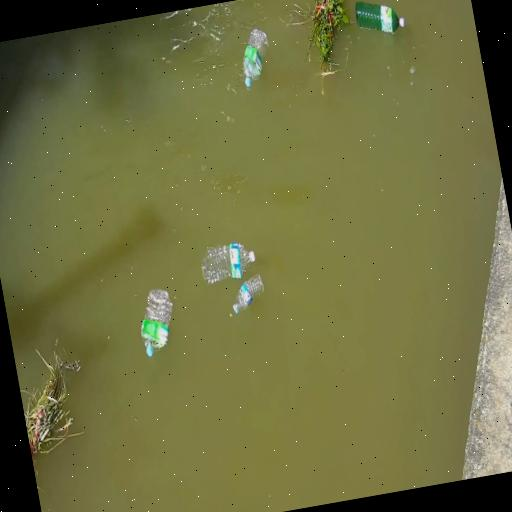plastic: (118, 269, 186, 368), (184, 226, 262, 288), (234, 24, 284, 92), (208, 271, 272, 322), (351, 0, 413, 50)
twig: (15, 352, 86, 464), (288, 0, 361, 70)
